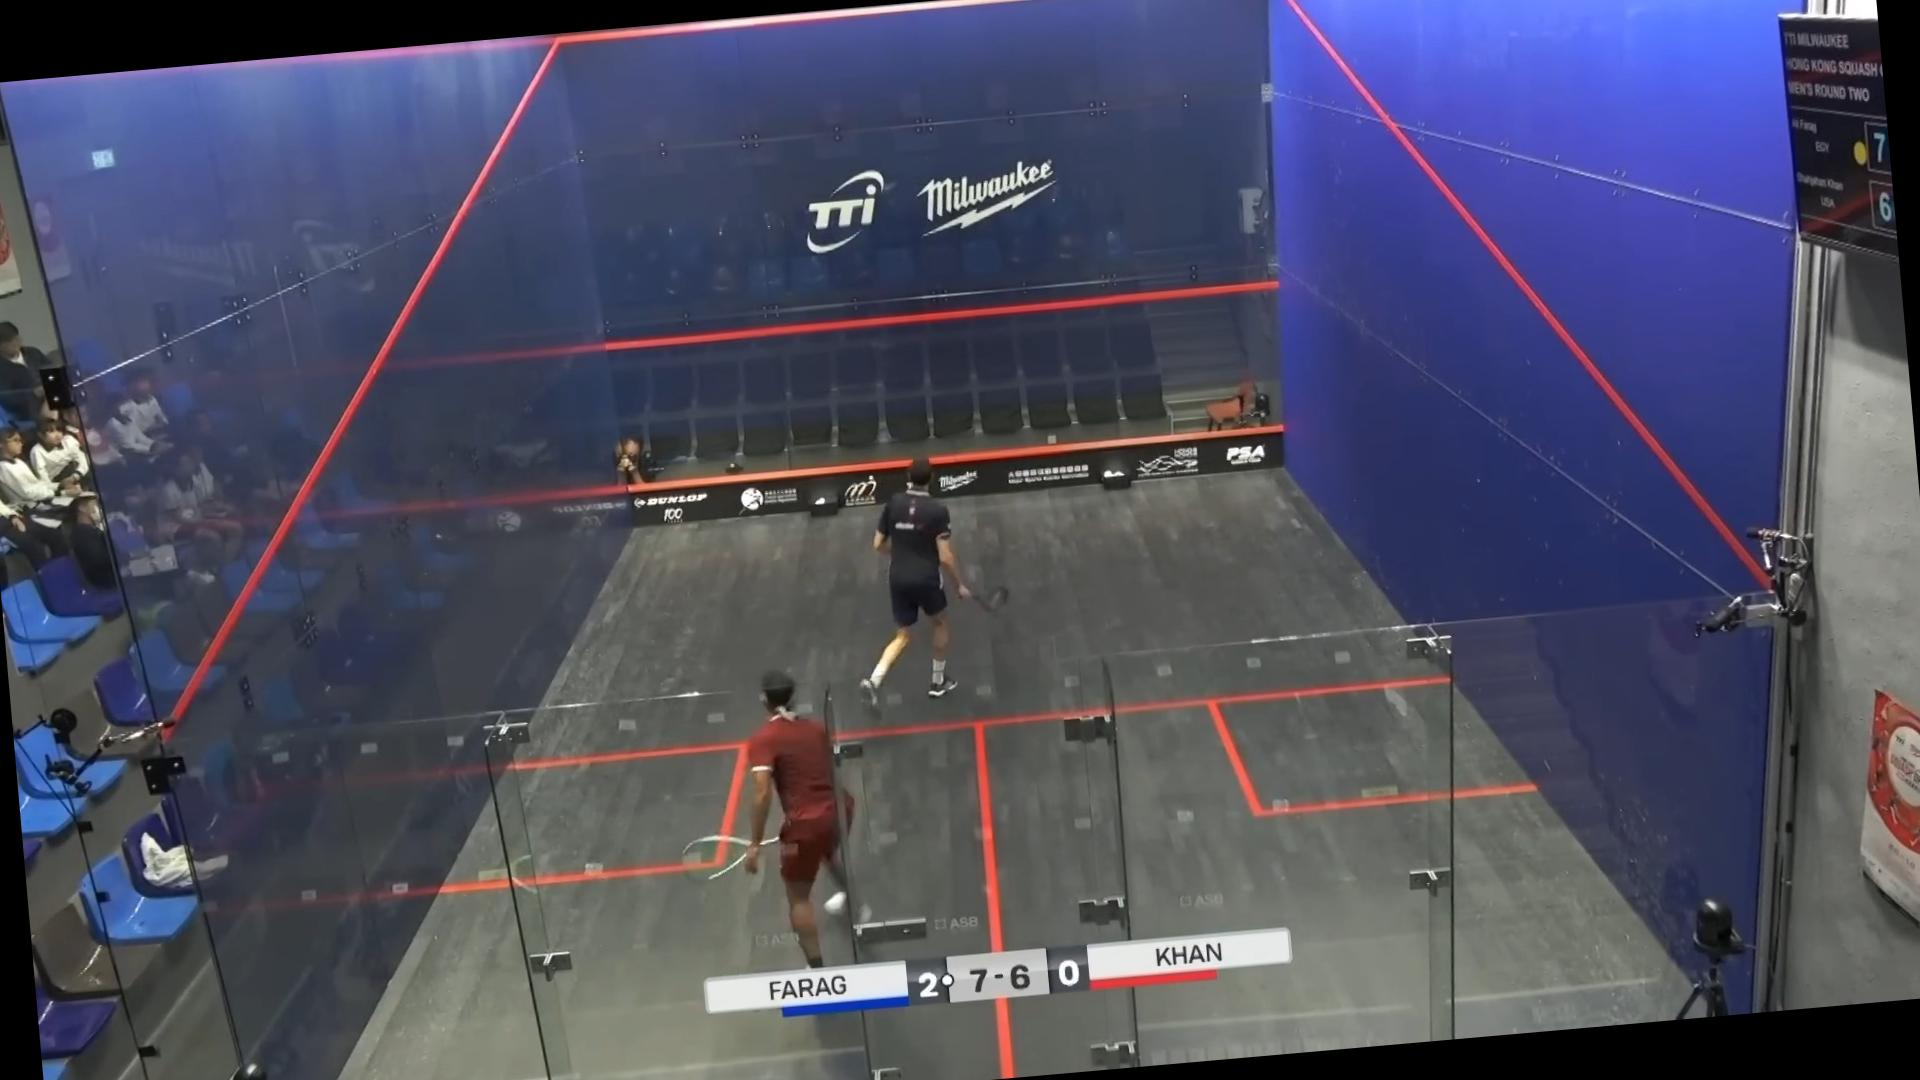Racket: (678, 832, 789, 885)
